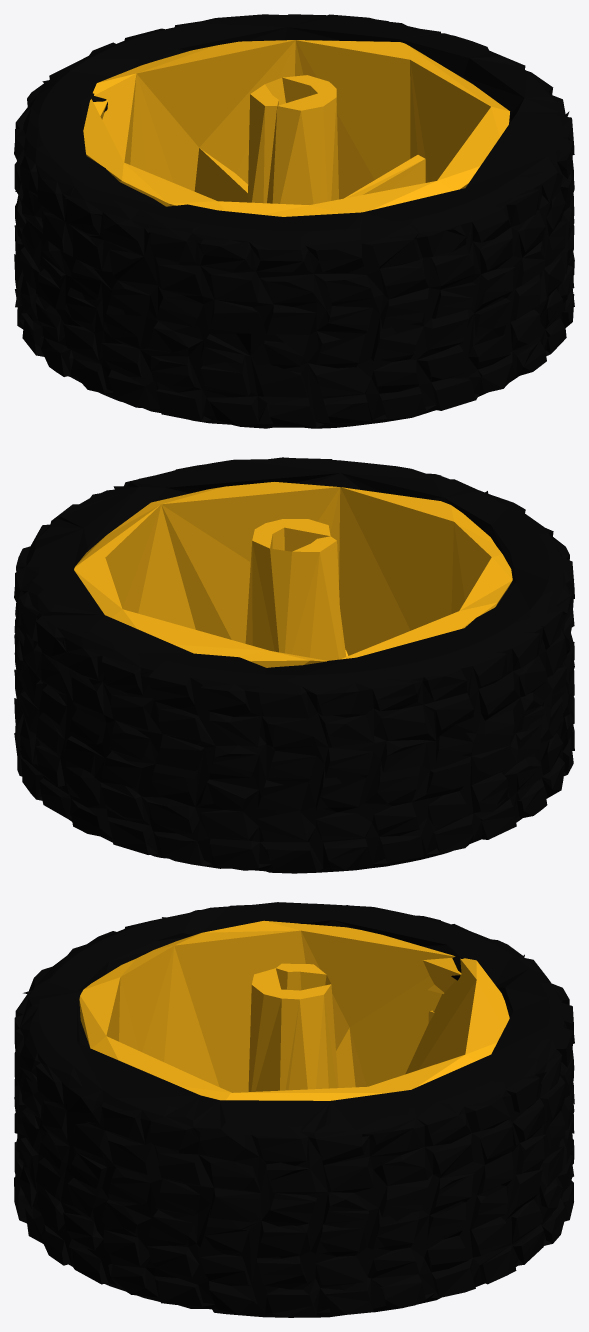
Rendered from wheel-65.glb.
The picture shows the model from 3 angles, top to bottom: view 1: azimuth 30°, elevation 25°; view 2: azimuth 150°, elevation 25°; view 3: azimuth 270°, elevation 25°; orthographic projection.
Parts seen in each view (by area): view 1: part1, part0; view 2: part1, part0; view 3: part1, part0.
Part boxes in pixels (x1,y1,x2,y2): part1: [14, 14, 574, 428]; part0: [83, 40, 509, 216]; part1: [14, 457, 574, 873]; part0: [74, 482, 512, 667]; part1: [14, 902, 574, 1317]; part0: [79, 920, 509, 1100].
Bounding box in the file's own units: 0.0651 × 0.0296 × 0.0652.
